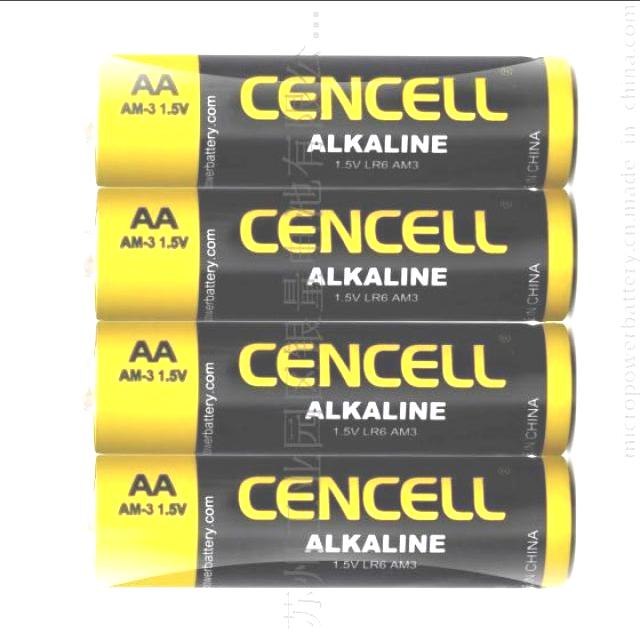AA: (76, 314, 574, 460), (74, 452, 570, 594), (76, 48, 575, 186), (75, 184, 572, 316)
